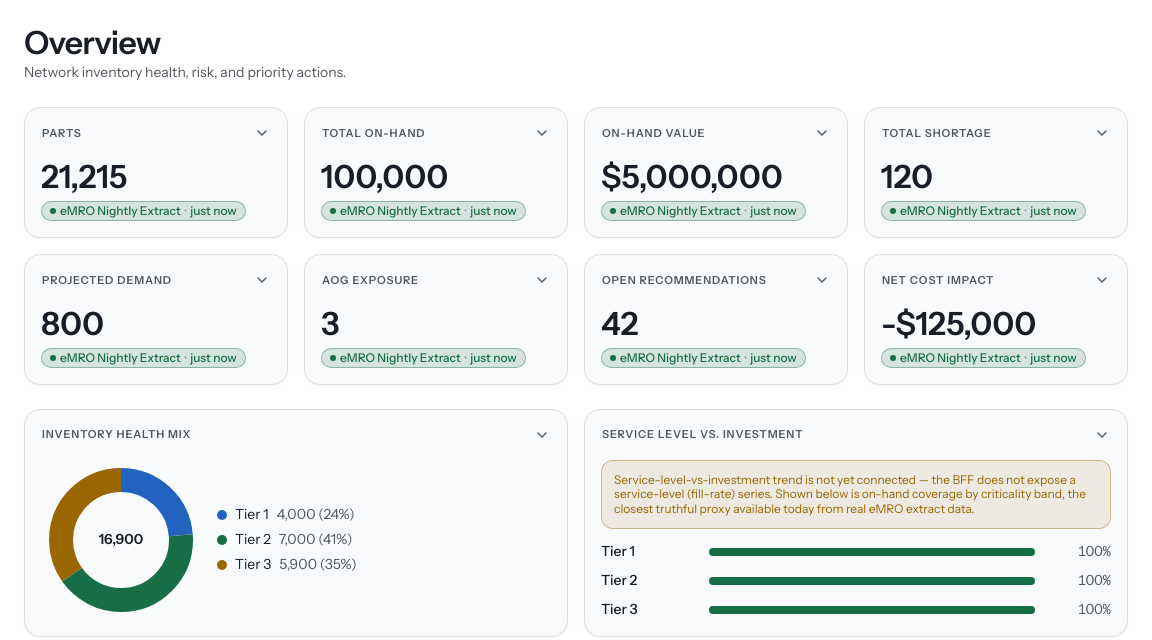
it: Overview › drill panels (F3) › opens the by-tier drill panel (a breakdown the BFF computes but no card renders directly)
Expected: the heading "Parts" is shown, [42,128,82,139]
Click the button "AOG exposure": (370, 280) [305,255,567,305]
(page scrolled)
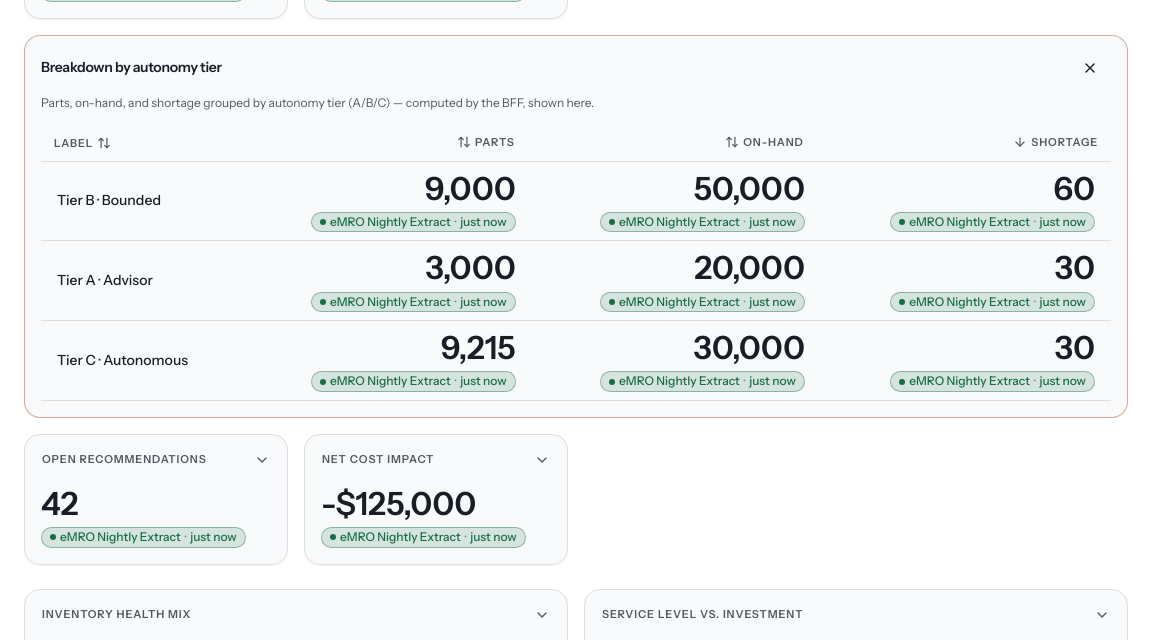
Expected: the text "Tier A · Advisor" is shown, [41,241,238,321]
Expected: the text "Tier B · Bounded" is shown, [41,162,238,241]
Expected: the text "Tier C · Autonomous" is shown, [41,321,238,400]
